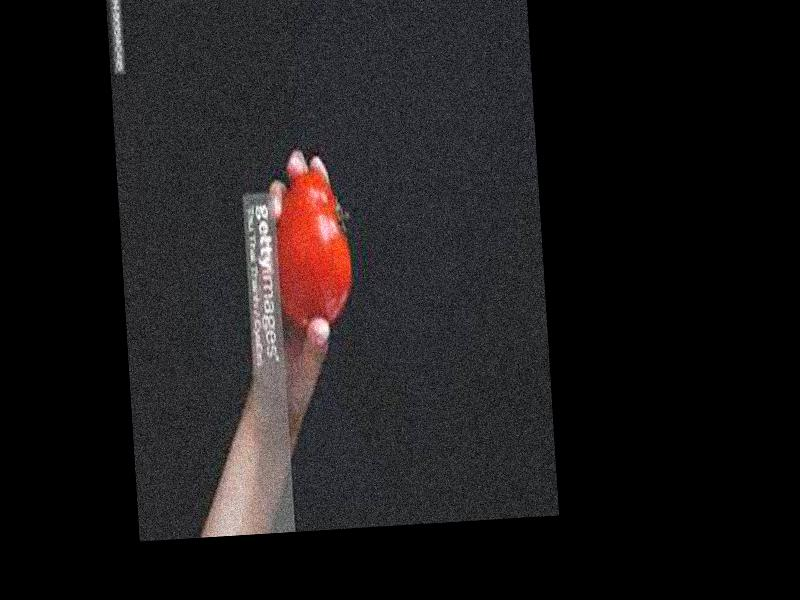Tomato: (269, 164, 355, 324)
